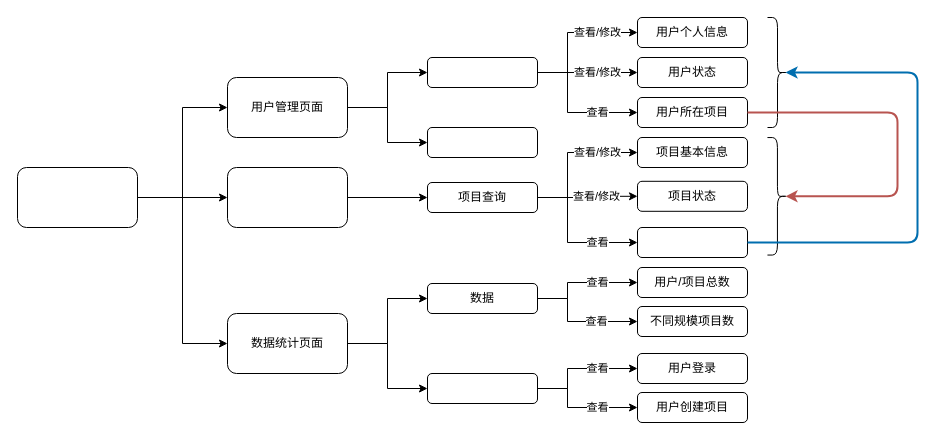
Image size: 944x440. Some labels were removed from this diagram. Each missing label, with the centre of its shape:
"日志" belongs at [482,388].
"用户查询" belongs at [482,72].
"管理端" belongs at [77,197].
"重置用户密码" belongs at [482,142].
"项目所含成员" belongs at [692,242].
"项目管理页面" belongs at [287,197].
